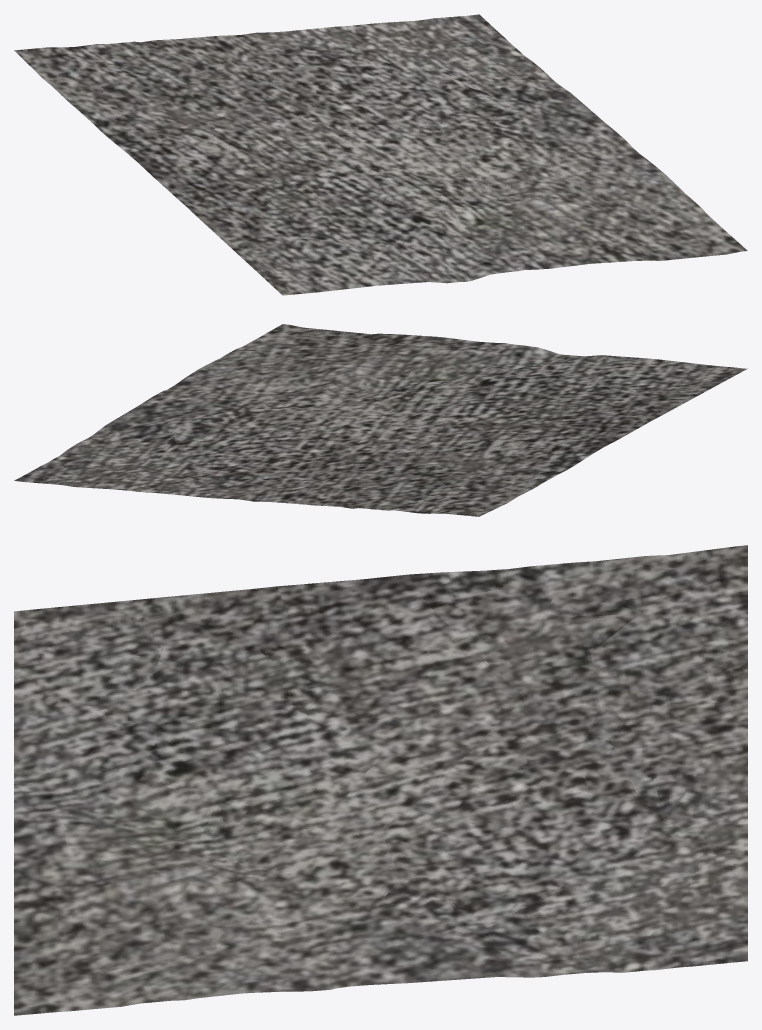
The picture shows the model from 3 angles, top to bottom: view 1: azimuth 30°, elevation 25°; view 2: azimuth 150°, elevation 25°; view 3: azimuth 270°, elevation 25°; orthographic projection. The views are drawn at different scales.
Bounding box in the file's own units: 0.8374 × 0.2019 × 0.8374.
3 materials, 3 textured.
